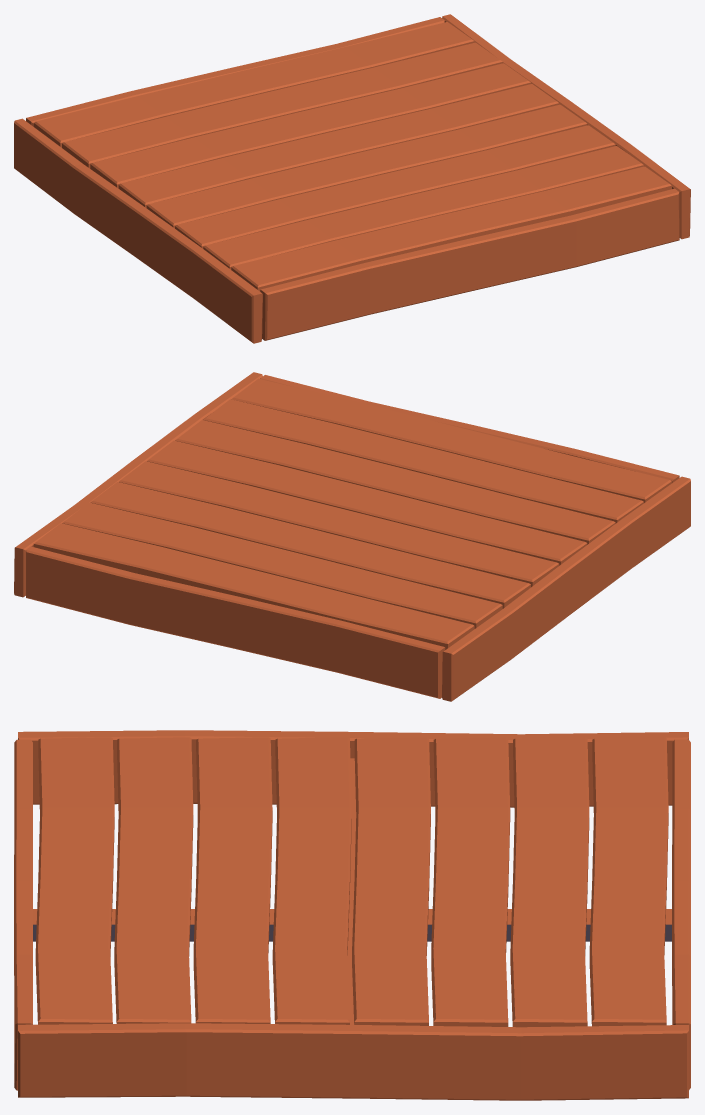
File: Platform.fbx
The picture shows the model from 3 angles, top to bottom: view 1: azimuth 30°, elevation 25°; view 2: azimuth 150°, elevation 25°; view 3: azimuth 270°, elevation 25°; orthographic projection. The views are drawn at different scales.
Parts seen in each view (by area): view 1: Platform; view 2: Platform; view 3: Platform.
Part boxes in pixels (<box>): Platform: <box>14,14,690,343</box>; Platform: <box>14,372,690,701</box>; Platform: <box>14,730,690,1100</box>.
Size of the model in its own units: 382 by 70.23 by 363.
